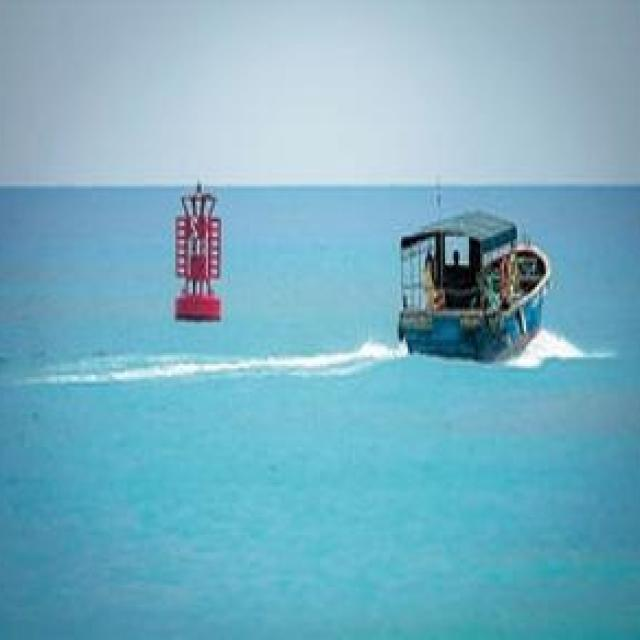houseboat: (392, 210, 553, 365)
